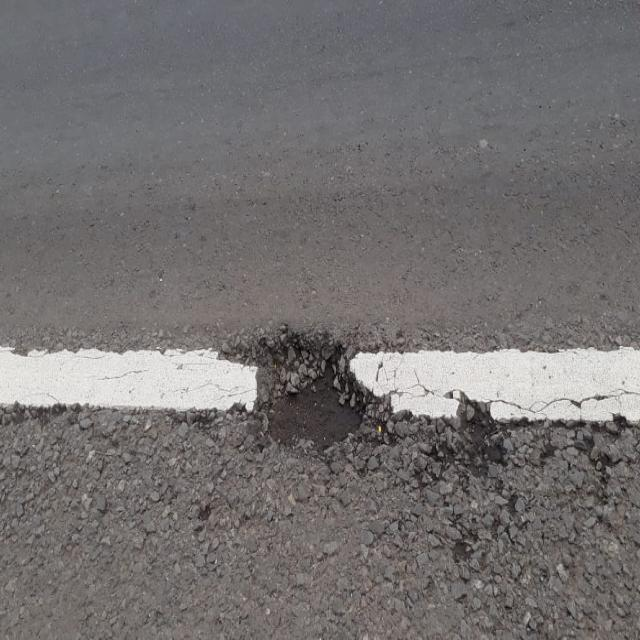Buraco: (212, 319, 387, 459)
